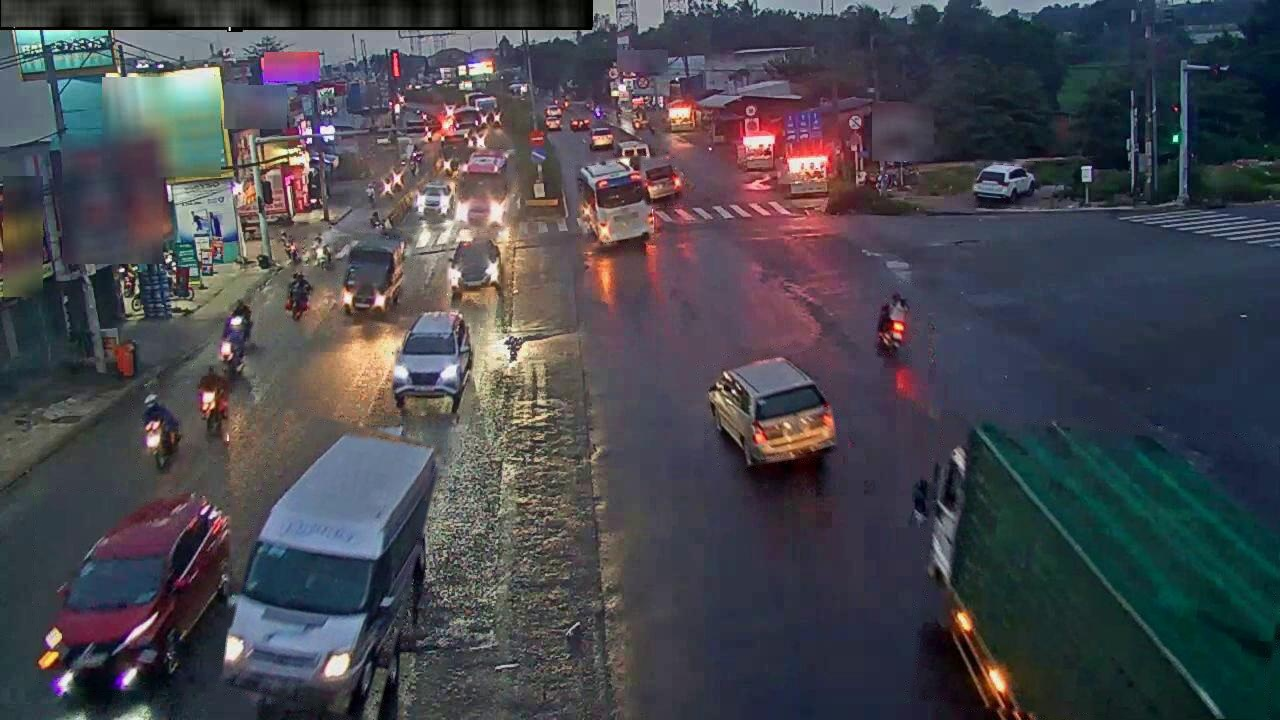Bus: (577, 160, 654, 248), (455, 151, 513, 228)
Car: (37, 493, 229, 695), (707, 357, 836, 466), (392, 311, 473, 413), (341, 235, 404, 314), (449, 238, 501, 293), (973, 164, 1036, 204), (640, 157, 682, 201), (416, 181, 454, 217), (466, 150, 507, 172), (589, 125, 614, 150), (569, 104, 591, 131), (543, 105, 562, 131)
Motorcycle: (143, 393, 180, 470), (144, 420, 179, 470), (200, 389, 227, 435), (877, 313, 906, 355), (219, 336, 243, 376)
Motorcyclist: (223, 298, 253, 344), (286, 272, 311, 321), (277, 227, 300, 266), (308, 235, 332, 269)
Traffic light: (390, 50, 400, 77)
Truck: (925, 423, 1279, 719), (223, 435, 435, 714)
